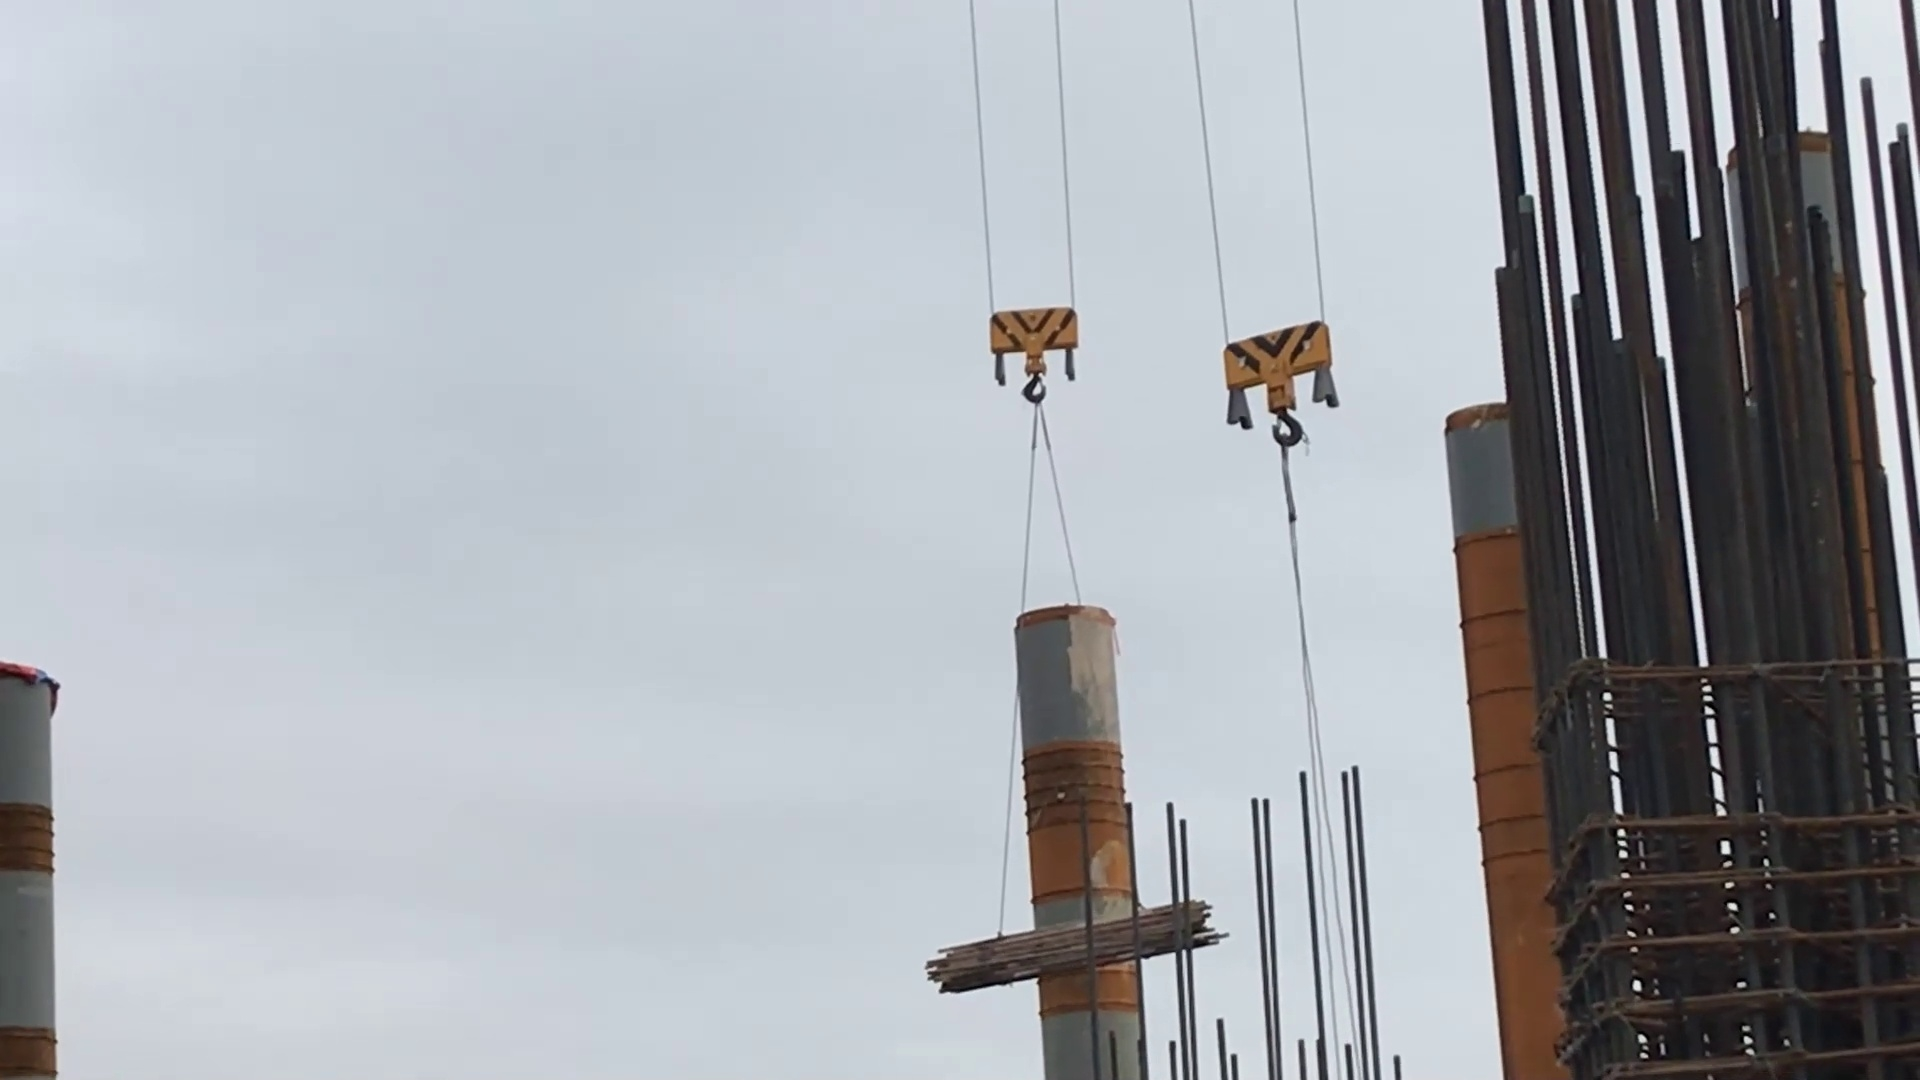hook: (1217, 316, 1342, 452), (988, 303, 1080, 407)
